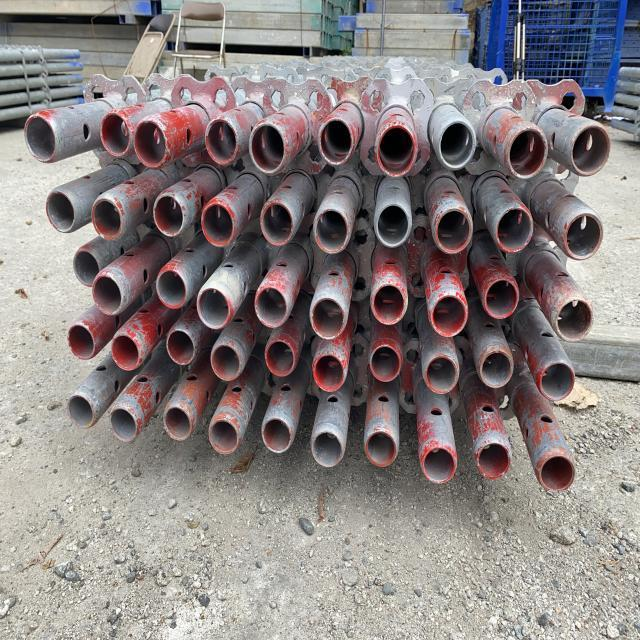pipe: (494, 110, 556, 190), (558, 112, 620, 192), (418, 278, 484, 351), (85, 92, 140, 178), (9, 97, 70, 174), (553, 197, 614, 273), (484, 196, 540, 277), (541, 289, 606, 358), (366, 109, 424, 186), (306, 191, 364, 268), (424, 193, 482, 270), (307, 106, 364, 184), (426, 110, 486, 184), (242, 108, 295, 190), (248, 190, 306, 264), (476, 267, 532, 342), (188, 272, 244, 346), (526, 438, 582, 511), (246, 275, 306, 343), (463, 432, 518, 506), (192, 186, 245, 262), (303, 341, 357, 414), (366, 194, 422, 264), (364, 270, 417, 343), (256, 330, 309, 402), (143, 182, 194, 255), (302, 286, 355, 356), (298, 422, 354, 488), (96, 388, 148, 459), (524, 346, 580, 410), (412, 431, 462, 502), (128, 104, 178, 174), (360, 336, 414, 400), (252, 404, 302, 472), (196, 110, 243, 182), (148, 257, 198, 324), (359, 418, 407, 486), (86, 186, 136, 250), (418, 341, 466, 407), (88, 261, 134, 327), (58, 311, 103, 377), (476, 334, 521, 400), (40, 178, 84, 245), (158, 396, 204, 460), (200, 334, 249, 394), (102, 323, 148, 386), (204, 400, 246, 467), (154, 320, 200, 378), (60, 380, 102, 442), (70, 243, 98, 300)
